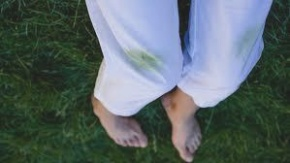earth: (130, 53, 156, 70)
